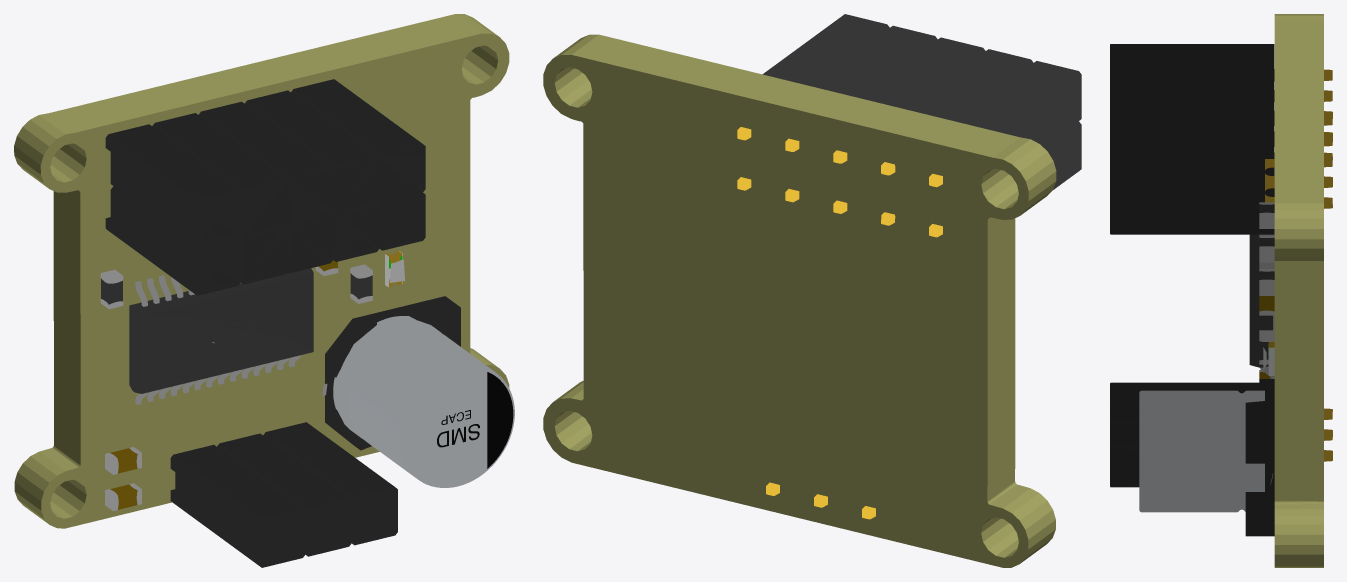
The model's file is OBJ_simplefocmini.obj.
The picture shows the model from 3 angles, left to right: view 1: azimuth 30°, elevation 25°; view 2: azimuth 150°, elevation 25°; view 3: azimuth 270°, elevation 25°; orthographic projection. The views are drawn at different scales.
Size of the model in its own units: 101 by 81.53 by 45.28.
